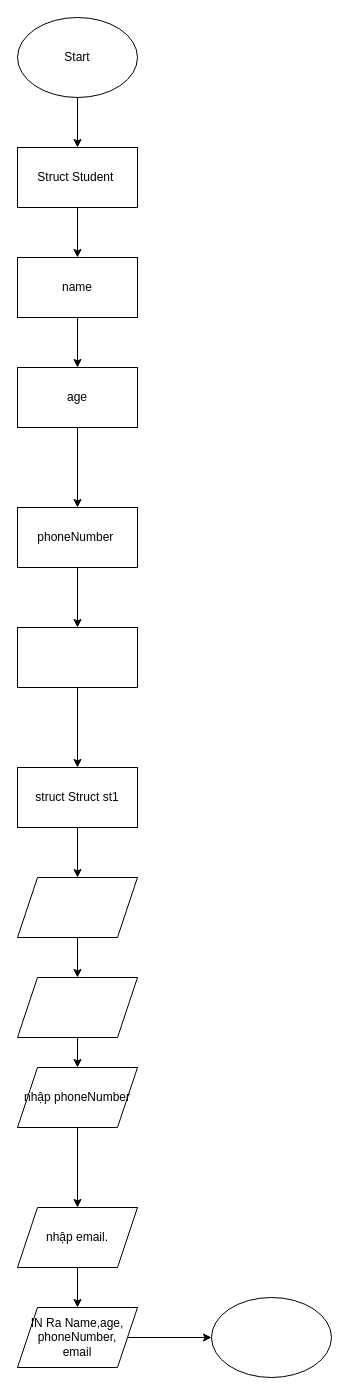
This 349x1395 diagram has some shape labels left out. Each missing label, with the centre of its shape:
email: point 77,657
End: point 271,1337
Nhap Name: point 77,907
nhập age: point 77,1007
